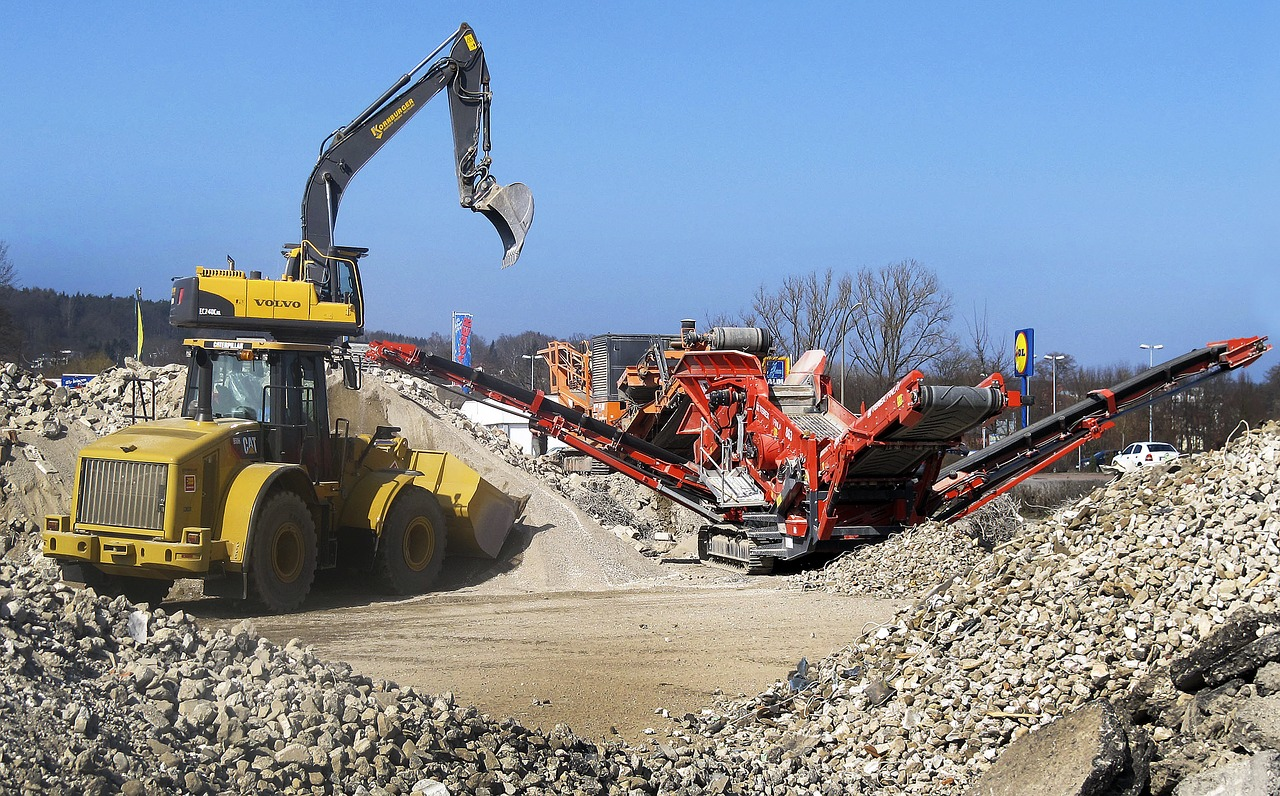bulldozer: (58, 341, 522, 604)
excavator: (171, 19, 564, 359)
